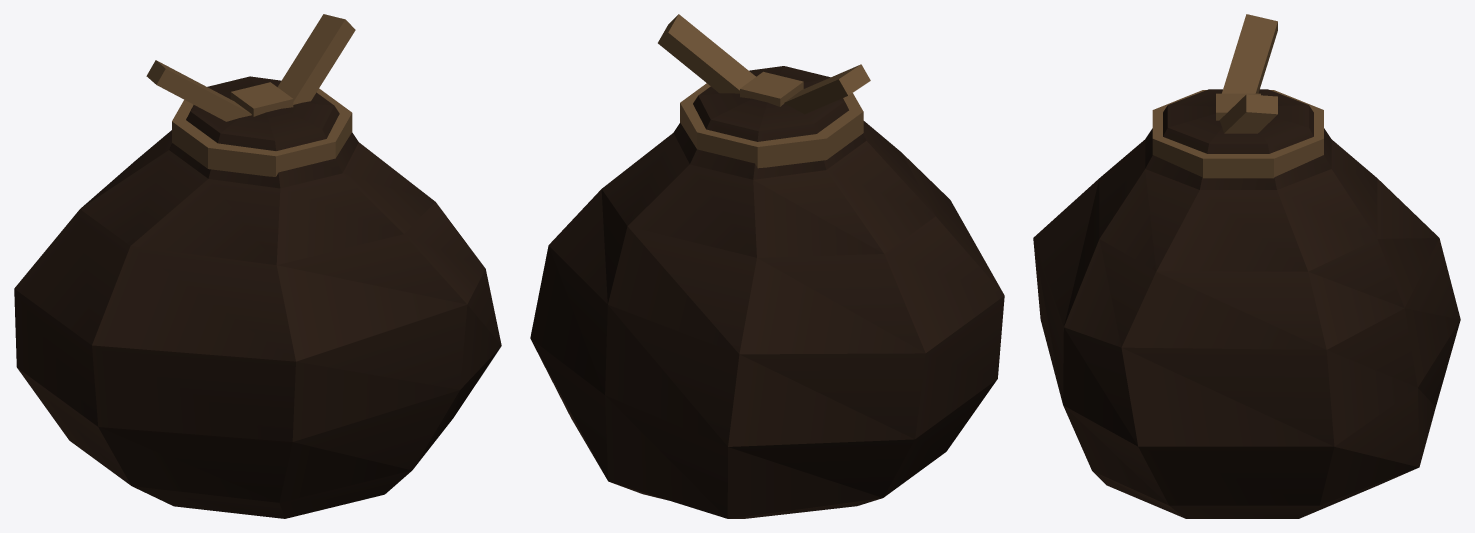
File: loot_bag.gltf
The picture shows the model from 3 angles, left to right: view 1: azimuth 30°, elevation 25°; view 2: azimuth 150°, elevation 25°; view 3: azimuth 270°, elevation 25°; orthographic projection. The views are drawn at different scales.
Parts seen in each view (by area): view 1: LootBag; view 2: LootBag; view 3: LootBag.
Part boxes in pixels (x1,y1,x2,y2): LootBag: (14, 14, 501, 518); LootBag: (530, 14, 1004, 518); LootBag: (1033, 14, 1460, 518).
Bounding box in the file's own units: 0.4267 × 0.45 × 0.4159.
Materials: 1 (1 with a texture image).
